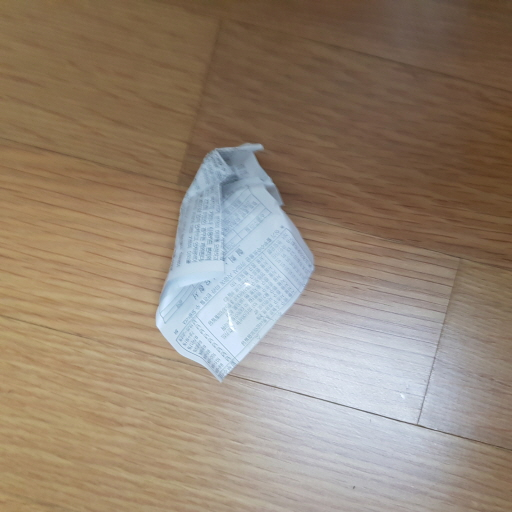Paper_3: (167, 127, 315, 397)
